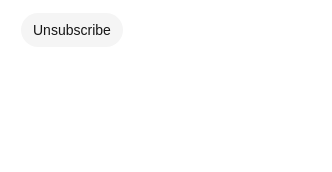
Scenario: SubscriptionButton › rolls back the optimistic unsubscribe when the request fails
The image size is (332, 172).
Click the button "Unsubscribe" at (72, 30), box [20,12,124,48]
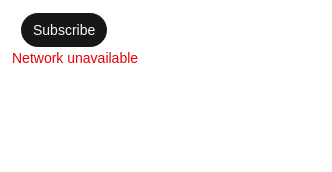
Expected: the button named "Unsubscribe" is enabled, [20,12,108,48]
Expected: the message reads "Network unavailable", [12,50,138,66]
